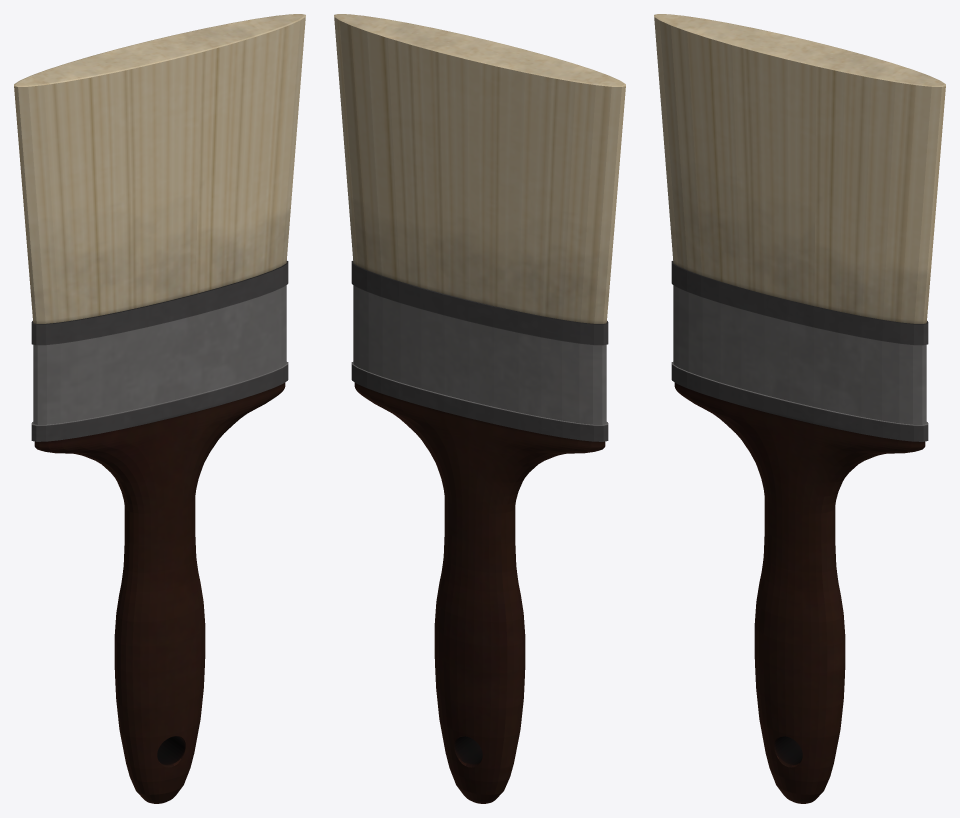
File: paint_brush.obj
The picture shows the model from 3 angles, left to right: view 1: azimuth 30°, elevation 25°; view 2: azimuth 150°, elevation 25°; view 3: azimuth 330°, elevation 25°; orthographic projection.
Parts seen in each view (by area): view 1: Cylinder; view 2: Cylinder; view 3: Cylinder.
Part boxes in pixels (left/top/right/bottom): Cylinder: left=14, top=14, right=305, bottom=803; Cylinder: left=334, top=14, right=625, bottom=803; Cylinder: left=654, top=14, right=945, bottom=803.
Size of the model in its own units: 0.0944 by 0.2322 by 0.0168.
Materials: 1 (1 with a texture image).
